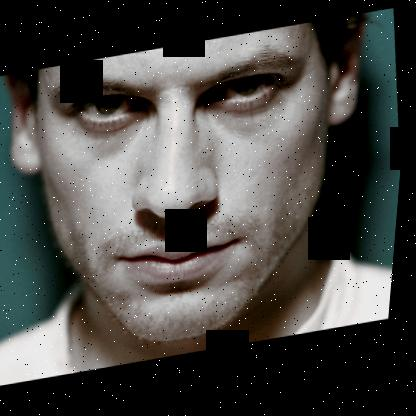Male: (0, 18, 395, 367)
